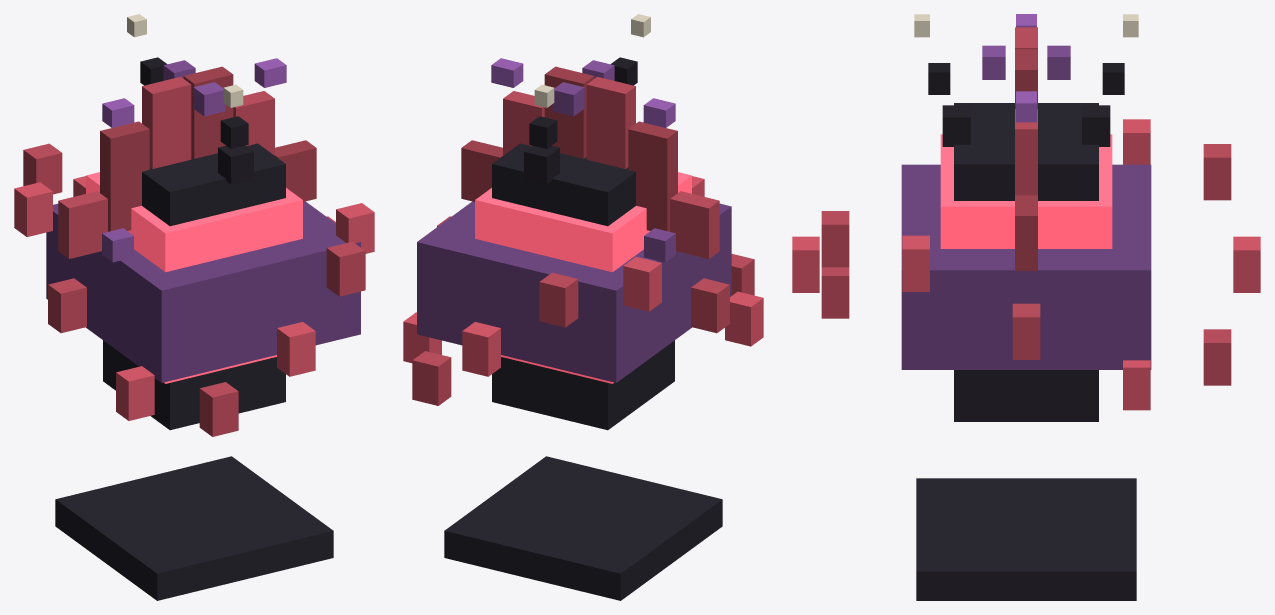
Rendered from pure-destruction-elemental.glb.
3 views of the same model, side by side, from view 1: azimuth 30°, elevation 25°; view 2: azimuth 150°, elevation 25°; view 3: azimuth 270°, elevation 25° (orthographic). The views are drawn at different scales.
Parts seen in each view (by area): view 1: Armor, Base, Spikes, Shards, Body, Core, Horns, Scales, Trim; view 2: Armor, Base, Spikes, Body, Shards, Core, Horns, Scales, Trim; view 3: Armor, Base, Body, Shards, Core, Spikes, Horns, Scales, Trim.
Boxes of the visible parts, bbox=[...] form: Armor: bbox=[46, 201, 360, 382]; Base: bbox=[55, 456, 333, 600]; Spikes: bbox=[58, 66, 316, 258]; Shards: bbox=[14, 143, 374, 436]; Body: bbox=[103, 143, 285, 430]; Core: bbox=[86, 172, 302, 383]; Horns: bbox=[127, 14, 253, 184]; Scales: bbox=[102, 60, 225, 262]; Trim: bbox=[102, 58, 286, 127]; Armor: bbox=[417, 201, 731, 382]; Base: bbox=[444, 456, 722, 600]; Spikes: bbox=[461, 66, 719, 258]; Body: bbox=[492, 143, 674, 430]; Shards: bbox=[403, 176, 763, 405]; Core: bbox=[475, 172, 691, 383]; Horns: bbox=[524, 14, 650, 184]; Scales: bbox=[552, 60, 675, 262]; Trim: bbox=[491, 58, 675, 127]; Armor: bbox=[901, 164, 1151, 369]; Base: bbox=[916, 478, 1136, 600]; Body: bbox=[954, 103, 1098, 421]; Shards: bbox=[792, 119, 1260, 410]; Core: bbox=[940, 134, 1112, 248]; Spikes: bbox=[1015, 27, 1037, 270]; Horns: bbox=[914, 14, 1138, 146]; Scales: bbox=[982, 45, 1070, 79]; Trim: bbox=[1016, 14, 1036, 122].
Size of the model in its own units: 3.02 by 5.06 by 4.04.
